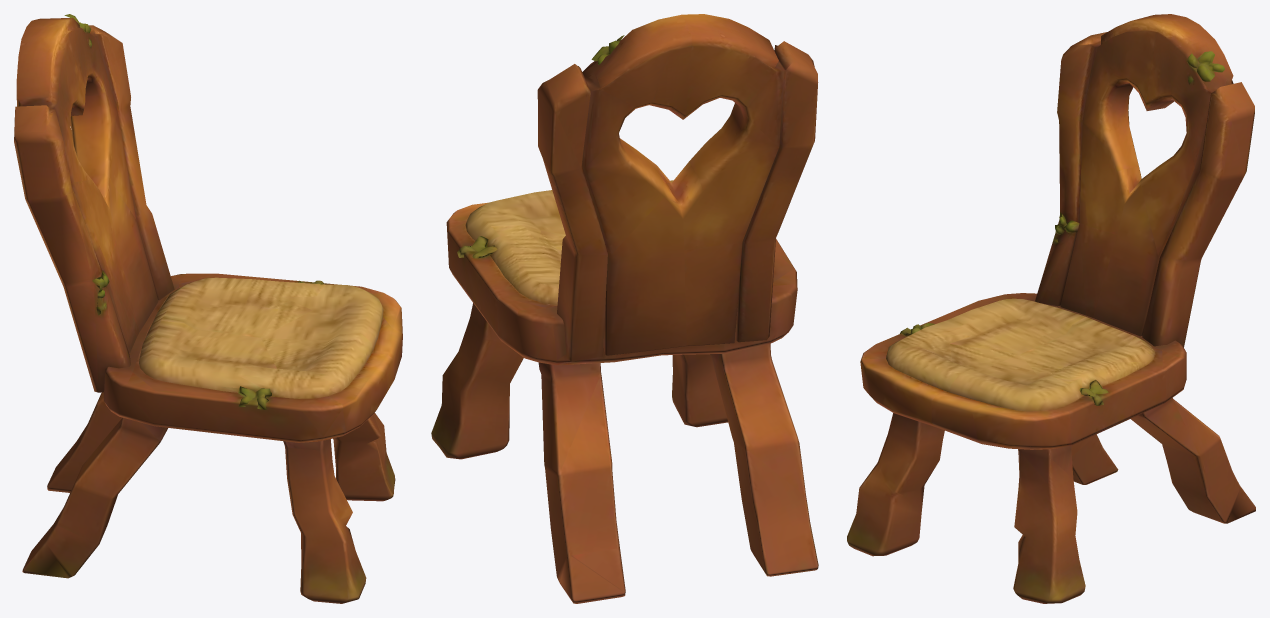
The model's file is wyn_furn_cottage_chair.glb.
The picture shows the model from 3 angles, left to right: view 1: azimuth 30°, elevation 25°; view 2: azimuth 150°, elevation 25°; view 3: azimuth 270°, elevation 25°; orthographic projection. The views are drawn at different scales.
Visible parts, largest first — view 1: tripo_node_50d933ca-079f-412a-86f7-8ef70aca93b2; view 2: tripo_node_50d933ca-079f-412a-86f7-8ef70aca93b2; view 3: tripo_node_50d933ca-079f-412a-86f7-8ef70aca93b2.
Part boxes in pixels (x1=…): tripo_node_50d933ca-079f-412a-86f7-8ef70aca93b2: x1=14, y1=14, x2=402, y2=603; tripo_node_50d933ca-079f-412a-86f7-8ef70aca93b2: x1=431, y1=14, x2=818, y2=603; tripo_node_50d933ca-079f-412a-86f7-8ef70aca93b2: x1=847, y1=14, x2=1255, y2=603.
Size of the model in its own units: 0.8288 by 1.1 by 0.8633.
Materials: 1 (1 with a texture image).
